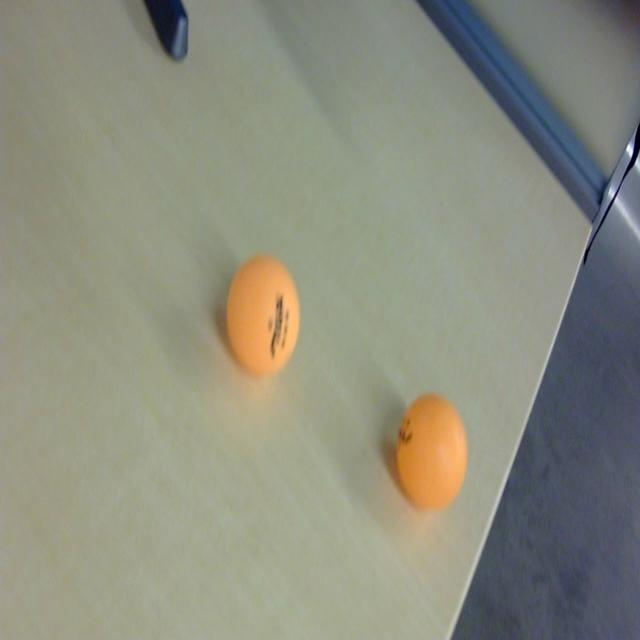ball: (226, 255, 300, 377), (396, 393, 466, 515)
